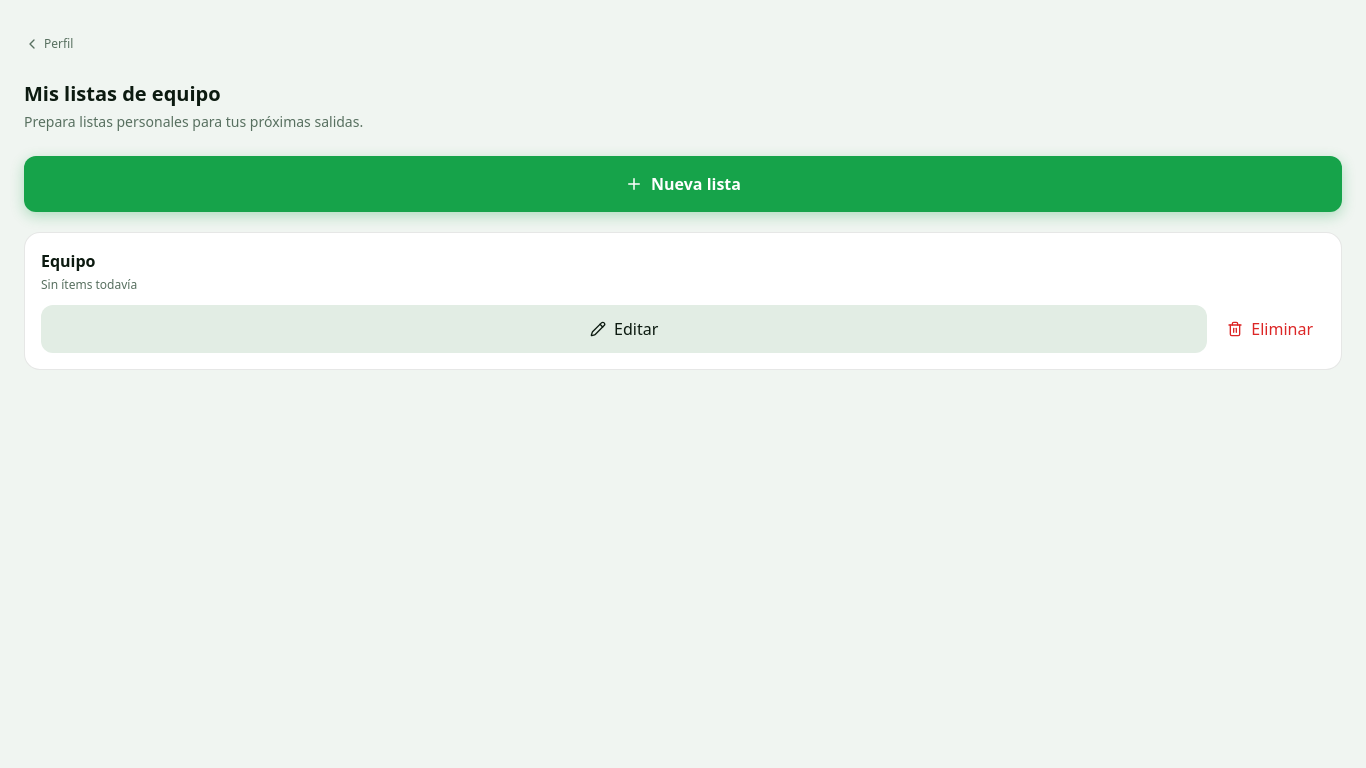
it: Pantalla HU-30: React sin navegador › conserva el borrador y la confirmación si falla la edición y permite reintentar
Click the button "Editar": (624, 329) [41,305,1207,353]
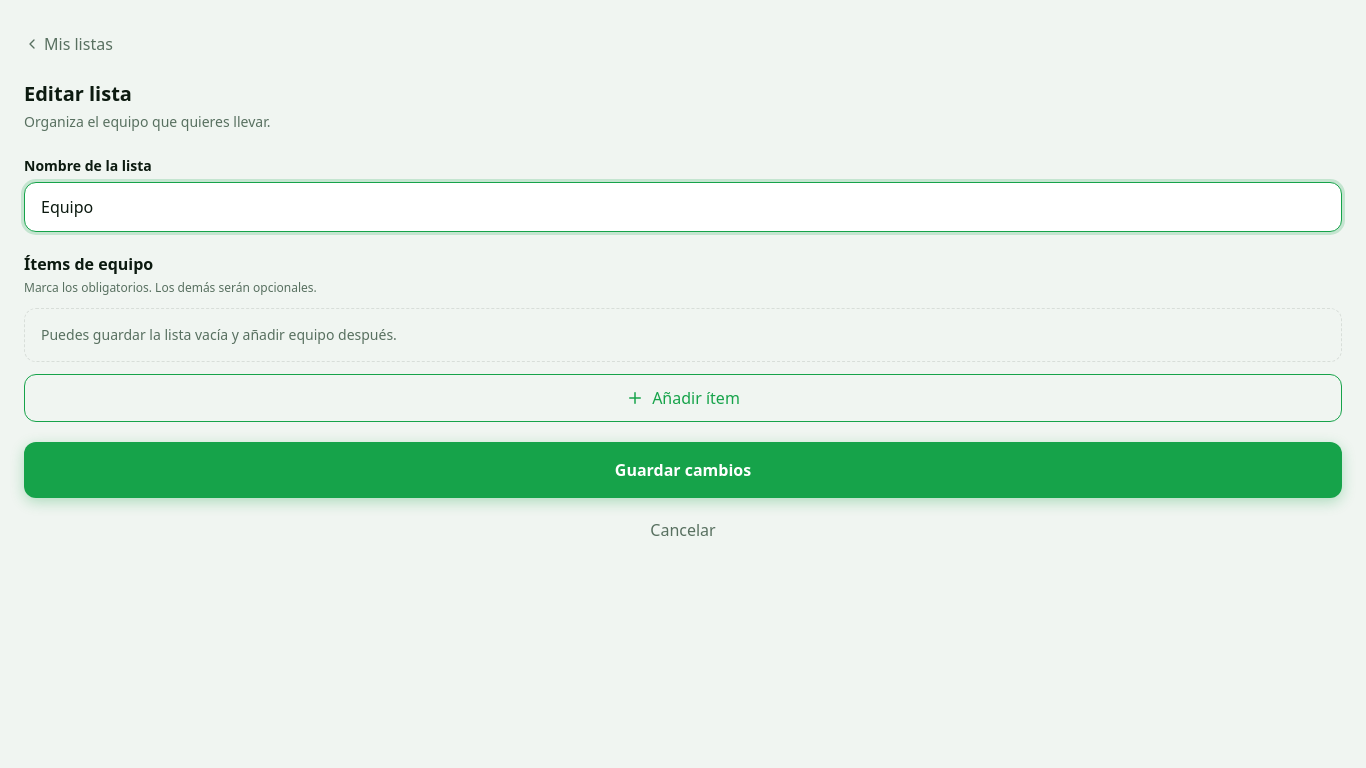
Replace the text in the field labelled "Nombre de la lista" with "Equipo de invierno": (683, 207) [24,182,1342,232]
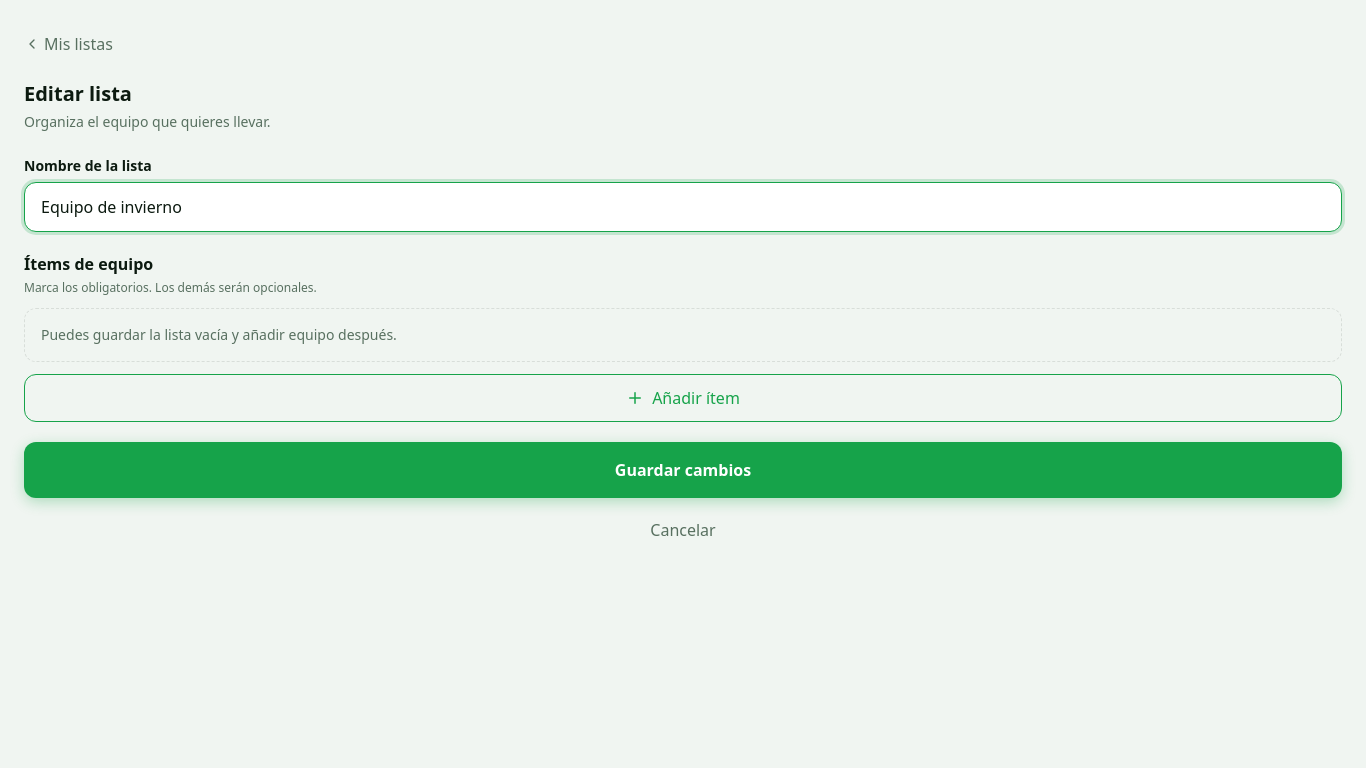
Submit the form, box [24,156,1342,554]
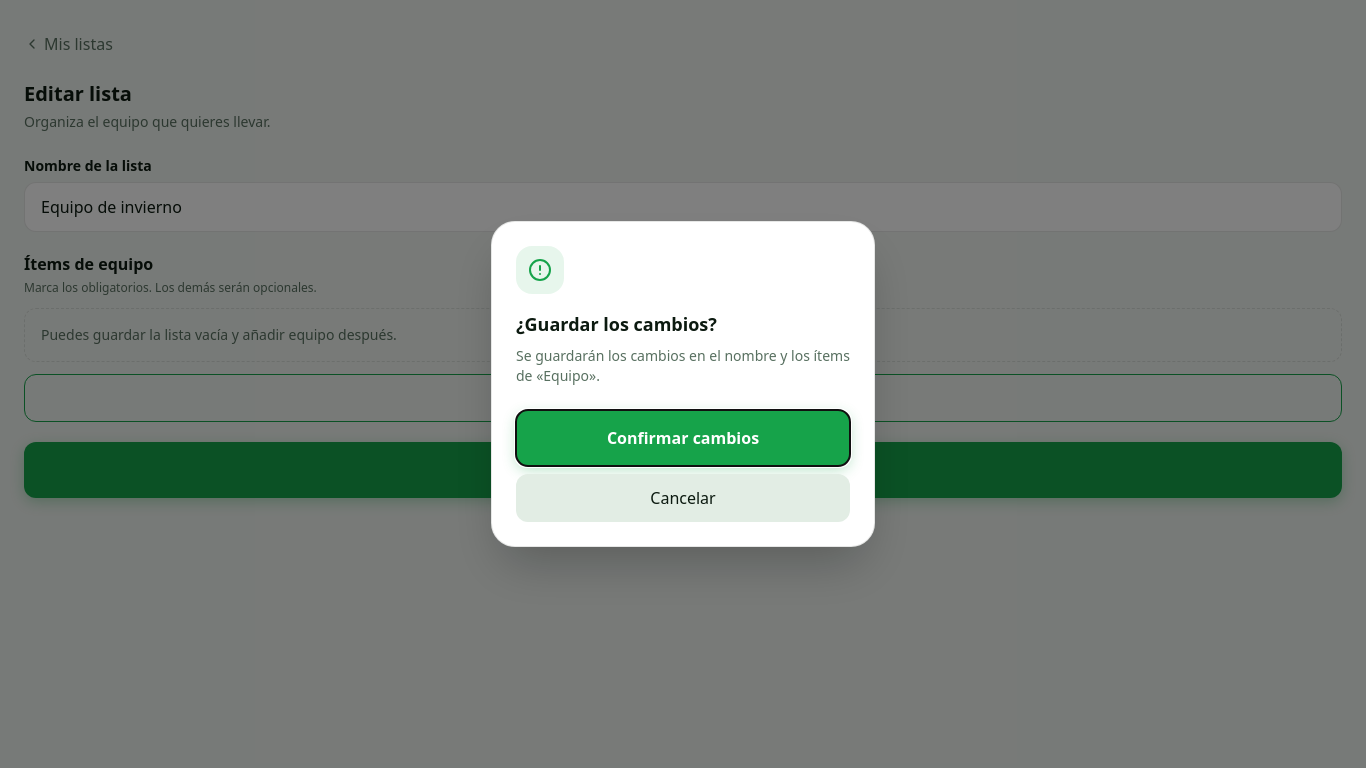
Click the button "Confirmar cambios": (683, 438) [516,410,850,466]
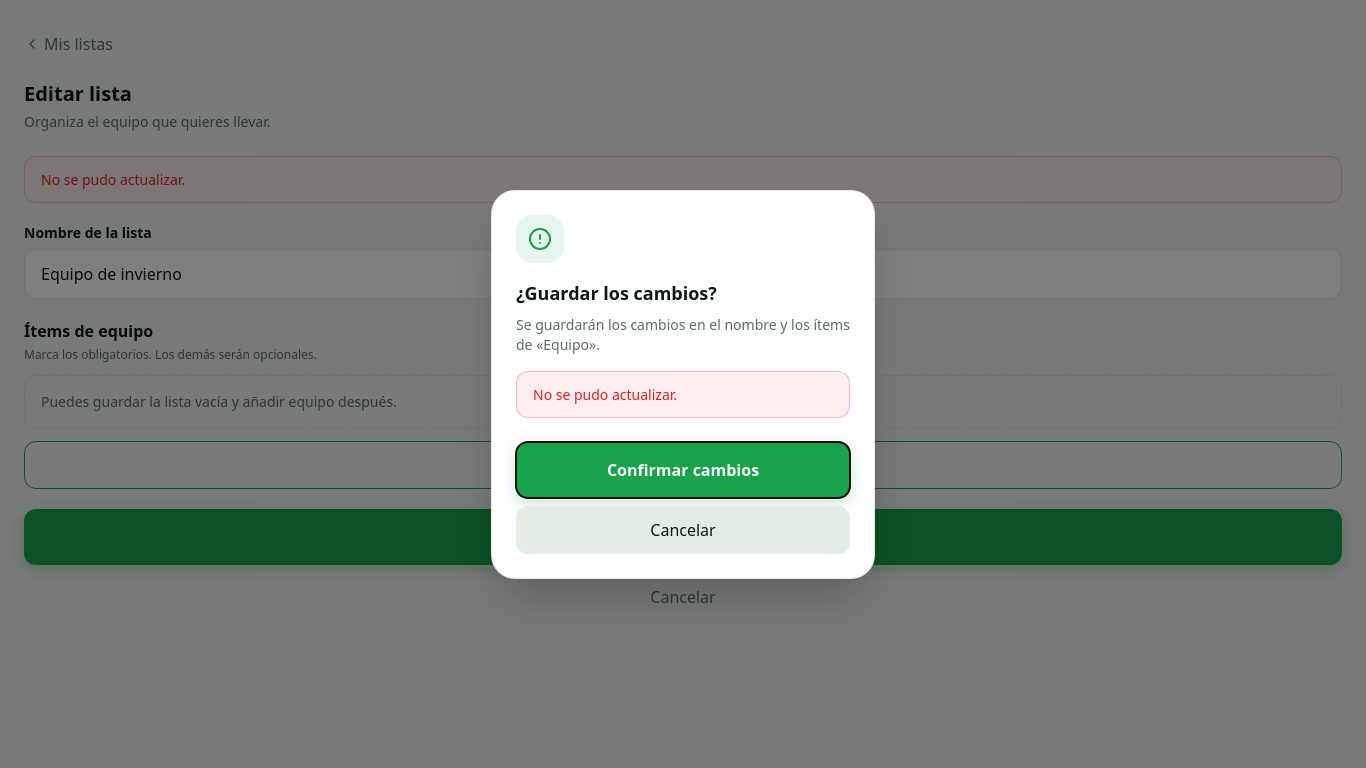
Click the button "Confirmar cambios": (683, 470) [516,442,850,498]
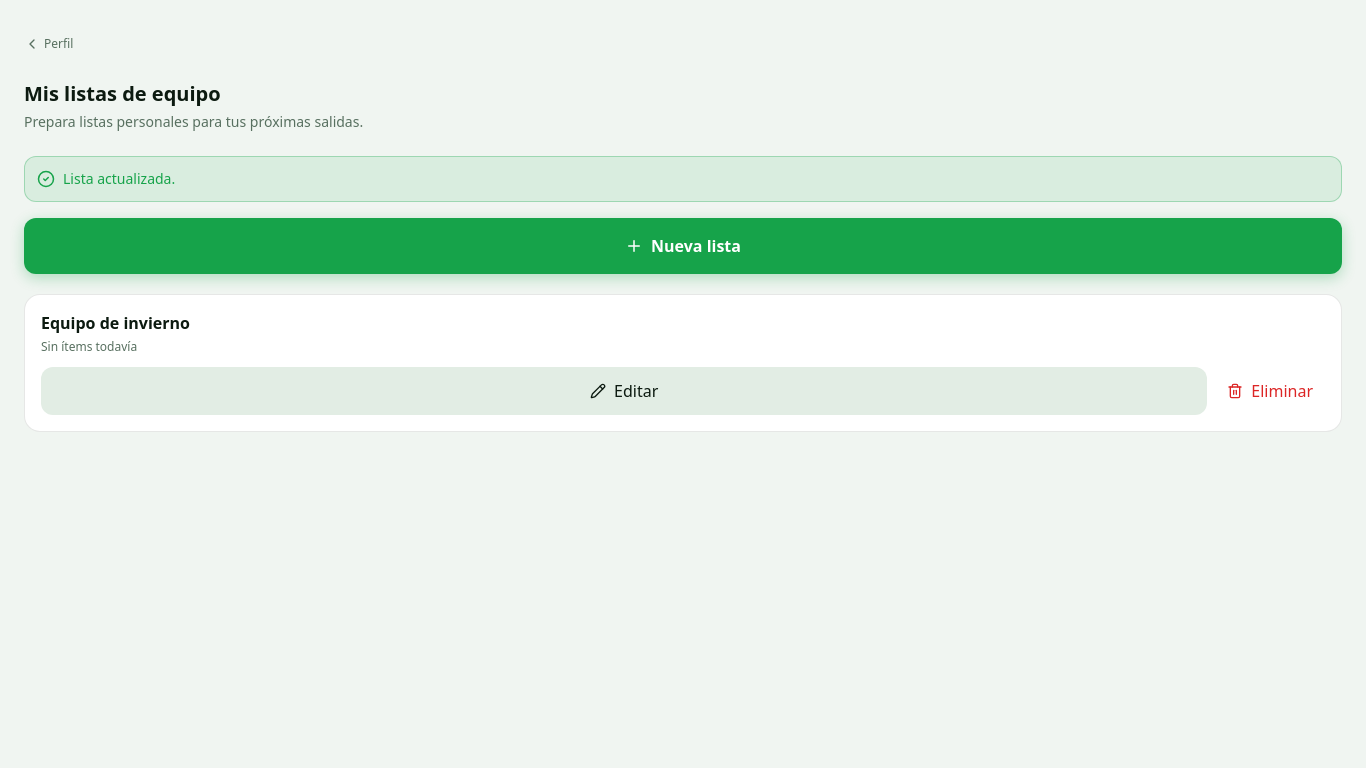
Expected: the heading "Equipo de invierno" is shown, [41,312,190,334]
